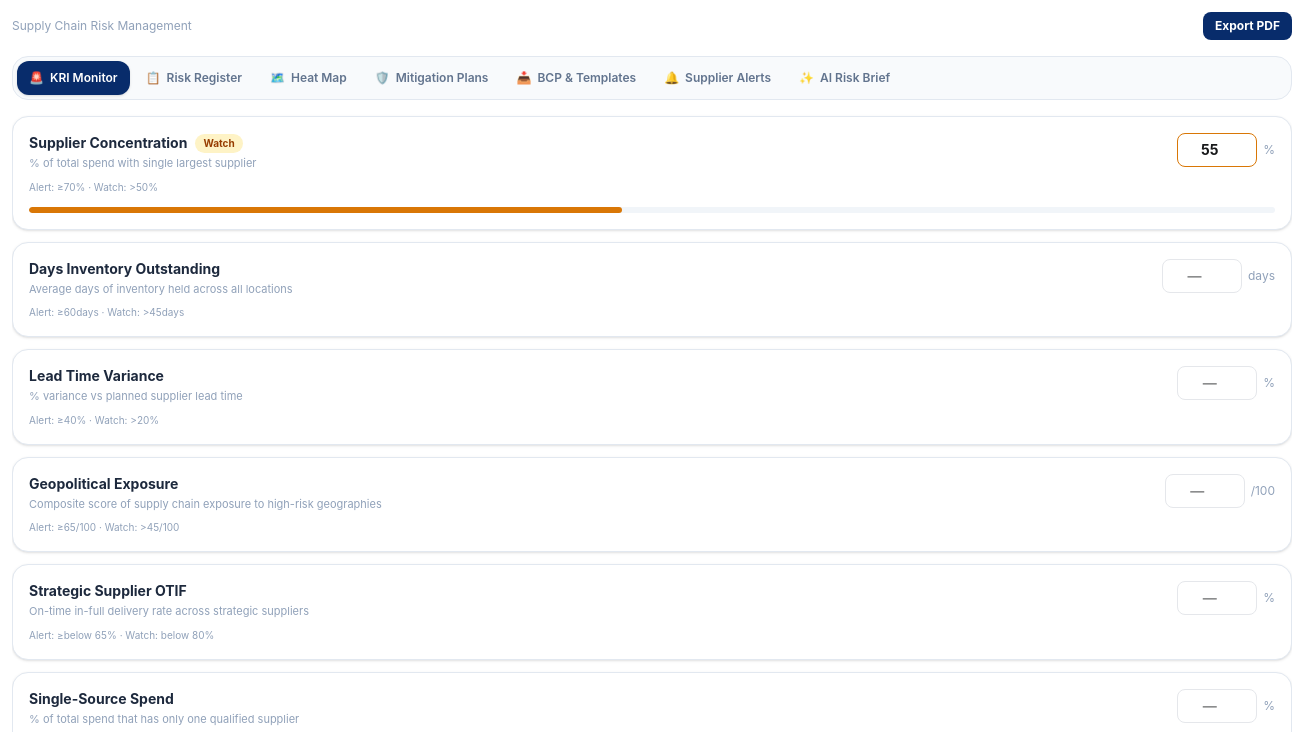
it: KRIDashboard — Generate button › API error shows error message with Retry button
Click the tab "✨ AI Risk Brief" at [845, 78], box [787,61,902,95]
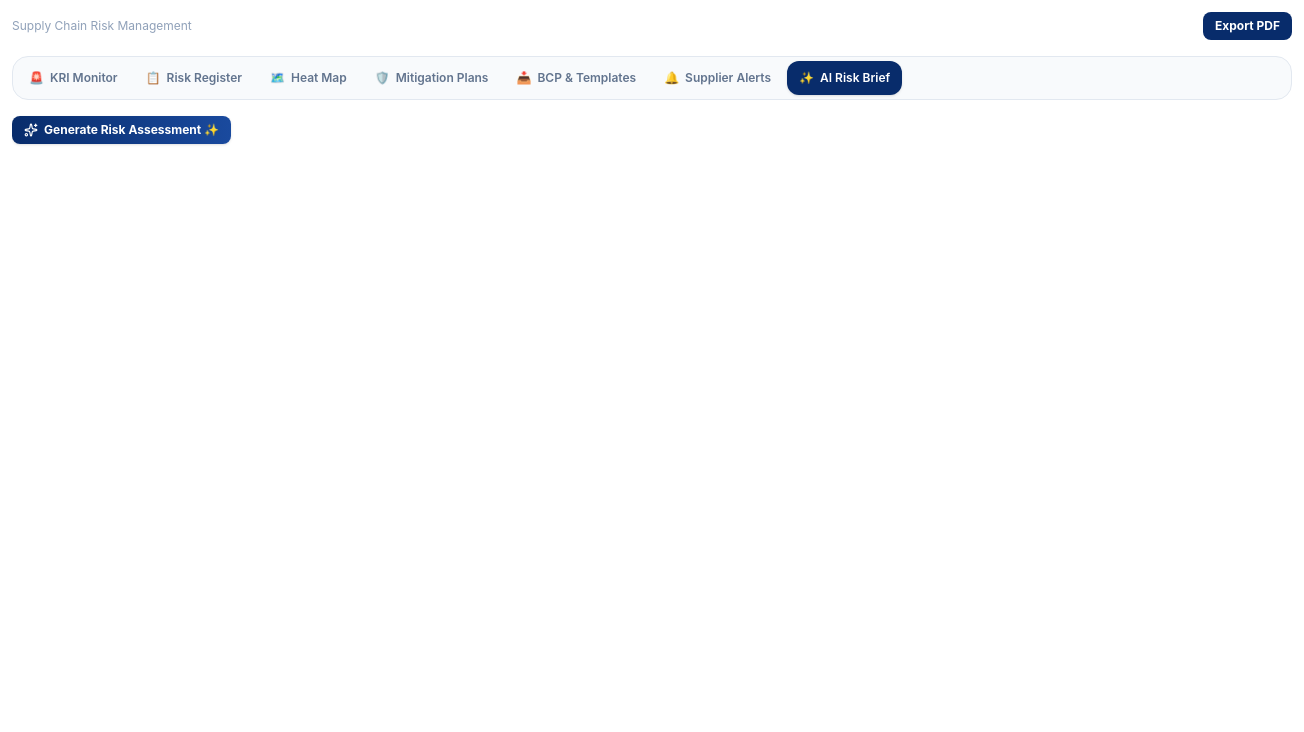
Result: the button "Generate Risk Assessment ✨" is enabled
Click the button "Generate Risk Assessment ✨" at [122, 130], box [12,116,231,144]
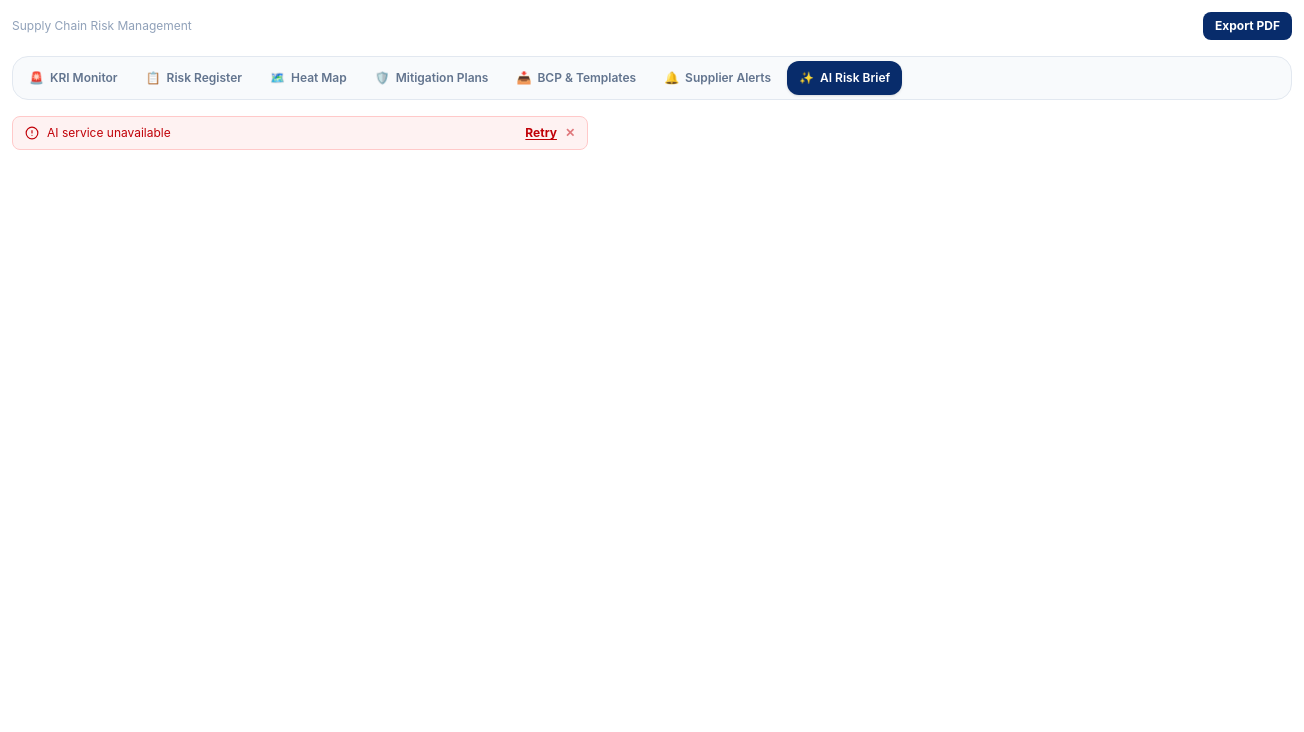
Result: the button "Retry" is shown at [525,125,557,141]
Result: the text "AI service unavailable" is shown at [47,125,171,140]
